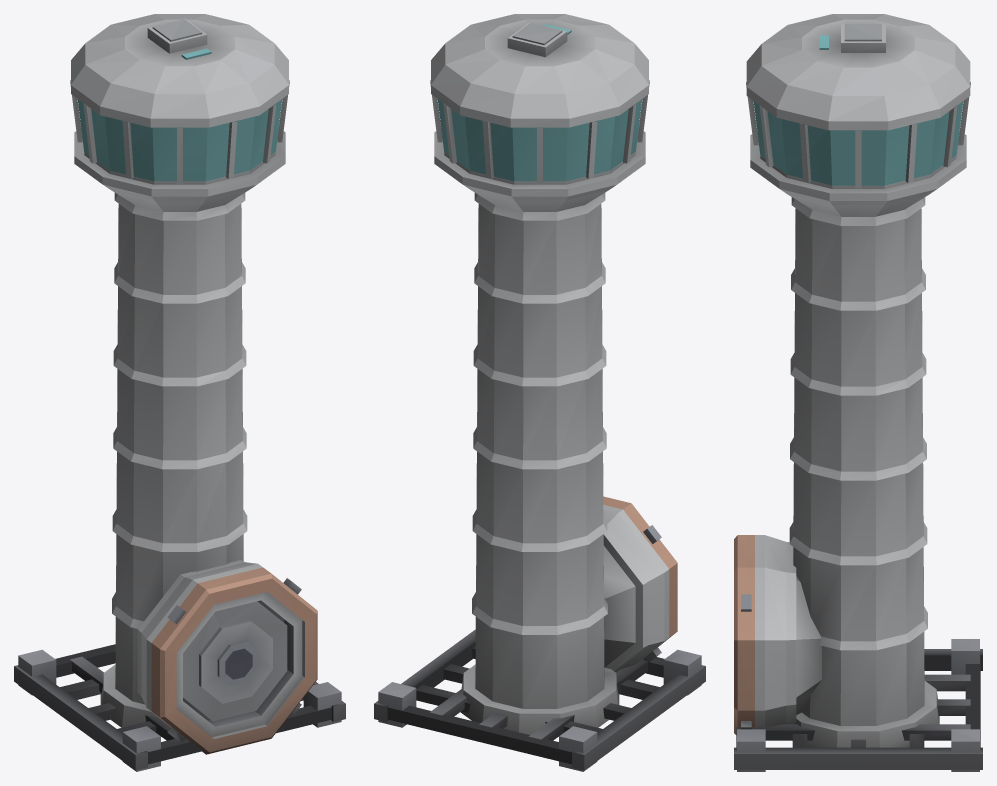
File: otower.glb
The picture shows the model from 3 angles, left to right: view 1: azimuth 30°, elevation 25°; view 2: azimuth 150°, elevation 25°; view 3: azimuth 270°, elevation 25°; orthographic projection. The views are drawn at different scales.
Visible parts, largest first — view 1: otower; view 2: otower; view 3: otower.
Part boxes in pixels (x1,y1,x2,y2): otower: [14, 14, 345, 771]; otower: [374, 14, 705, 771]; otower: [734, 14, 982, 771].
Size of the model in its own units: 5 by 15.26 by 5.
